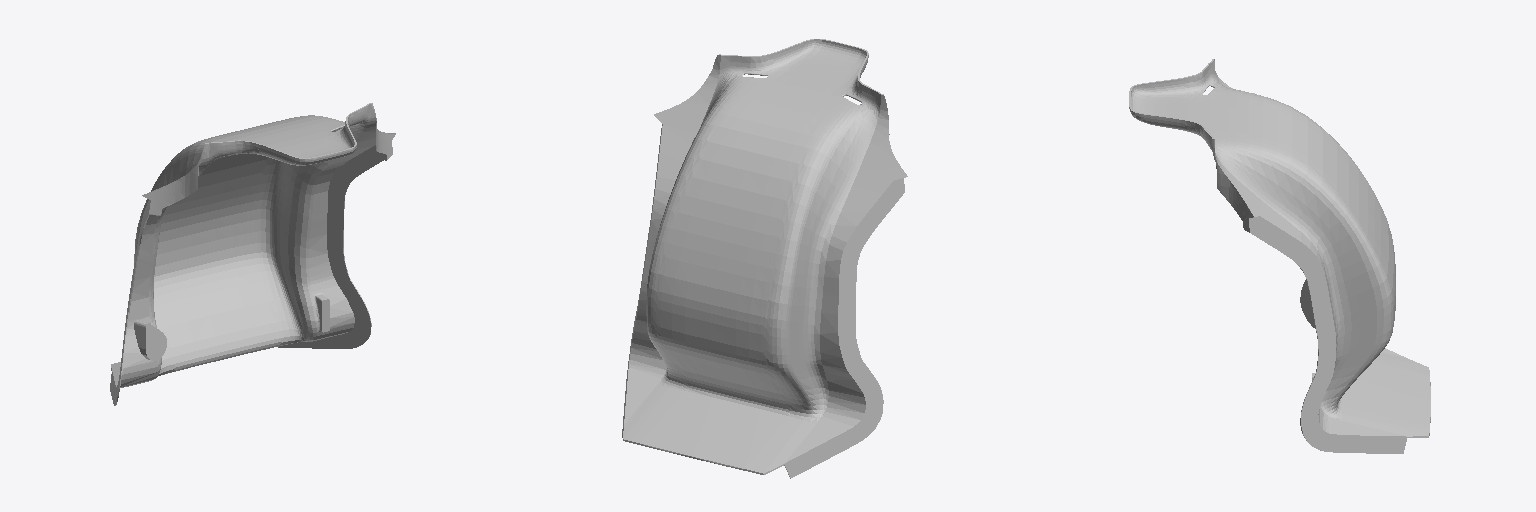
File: Seat_optimized.obj
The picture shows the model from 3 angles: view 1: azimuth 30°, elevation 25°; view 2: azimuth 150°, elevation 25°; view 3: azimuth 270°, elevation 25°; orthographic projection.
Parts seen in each view (by area): view 1: Seat (2); view 2: Seat (2); view 3: Seat (2).
Boxes of the visible parts, box(x1,y1,x2,y2) form: Seat (2): box(110, 103, 395, 405); Seat (2): box(622, 39, 907, 478); Seat (2): box(1129, 59, 1430, 453).
Bounding box in the file's own units: 828 × 976 × 850.